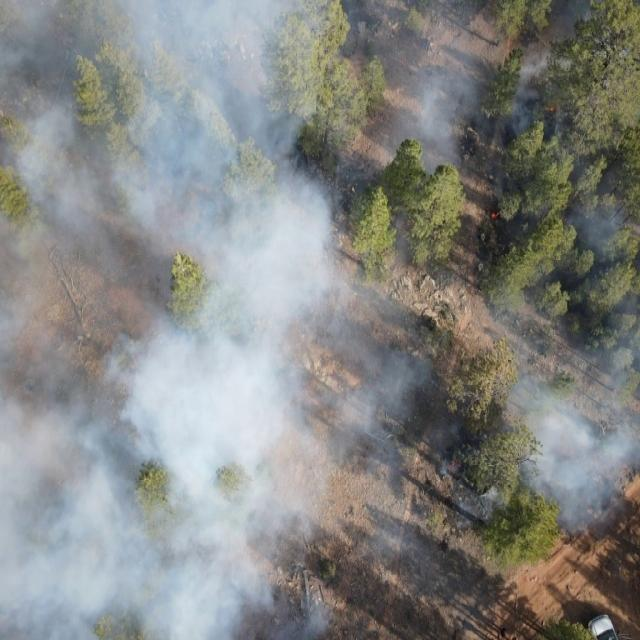fire: (542, 104, 558, 112), (490, 210, 502, 220), (448, 457, 457, 467)
smoke: (0, 0, 374, 640), (374, 0, 640, 332), (372, 330, 640, 549), (374, 547, 492, 640)
